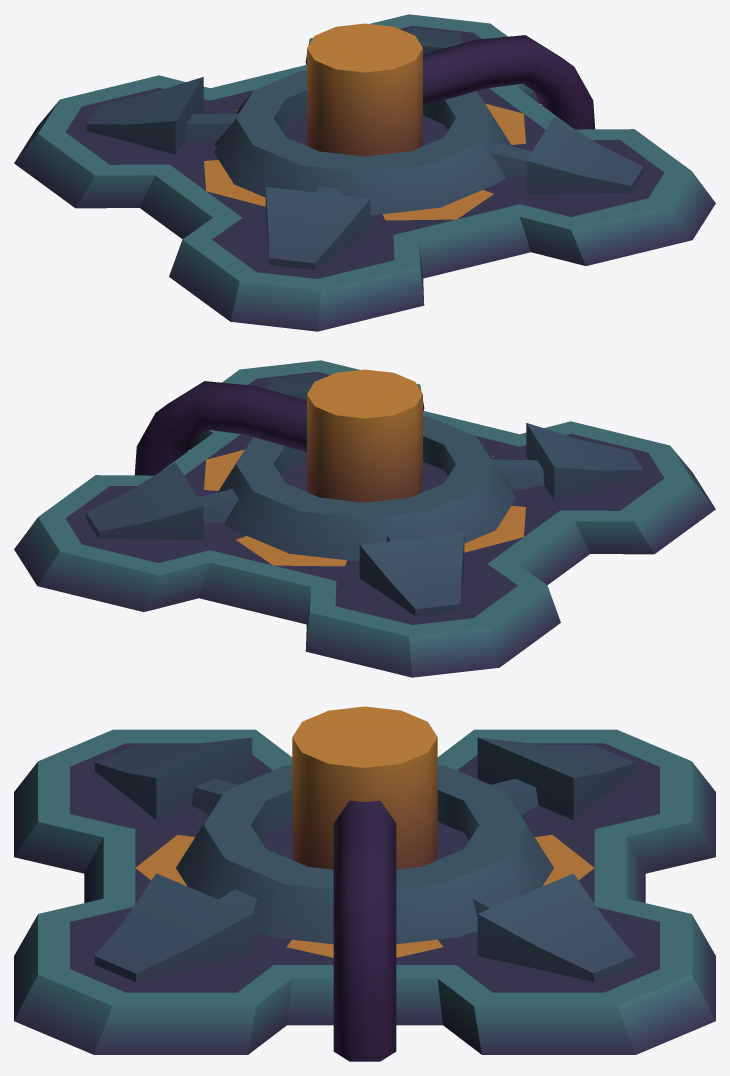
The model's file is MDL_ TowerBase.fbx.
3 views of the same model, one above another, from view 1: azimuth 30°, elevation 25°; view 2: azimuth 150°, elevation 25°; view 3: azimuth 270°, elevation 25° (orthographic). The views are drawn at different scales.
Parts seen in each view (by area): view 1: MDL_TowerBase; view 2: MDL_TowerBase; view 3: MDL_TowerBase.
Boxes of the visible parts, bbox=[...] form: MDL_TowerBase: bbox=[14, 14, 715, 331]; MDL_TowerBase: bbox=[14, 360, 715, 677]; MDL_TowerBase: bbox=[14, 706, 715, 1061].
Bounding box in the file's own units: 0.9665 × 0.2882 × 0.9665.
